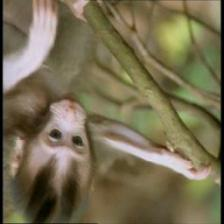monkey: (10, 98, 106, 220)
